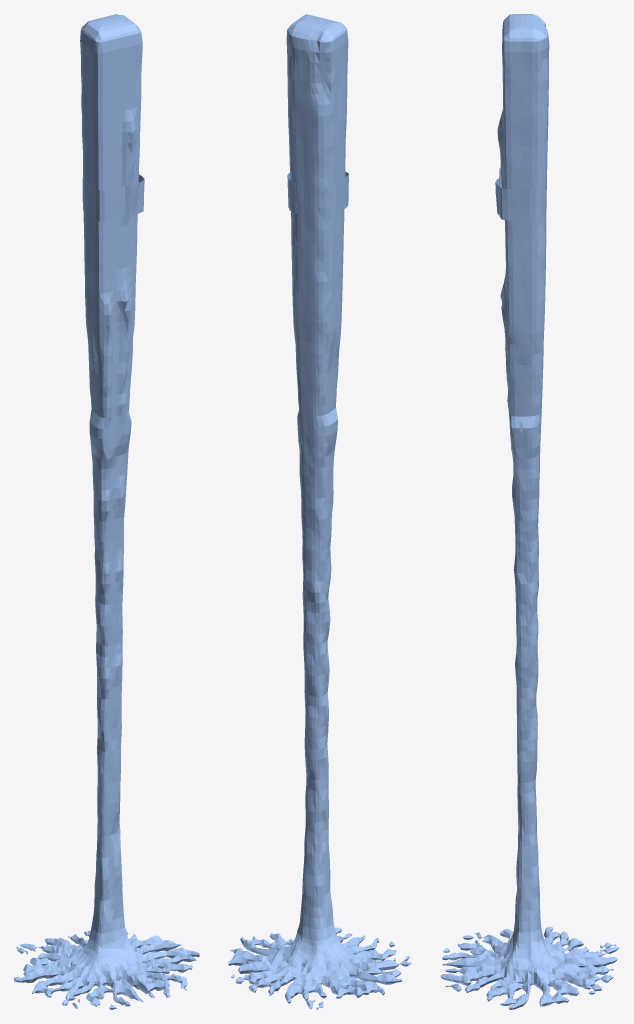
The model's file is water_1.fbx.
The picture shows the model from 3 angles, left to right: view 1: azimuth 30°, elevation 25°; view 2: azimuth 150°, elevation 25°; view 3: azimuth 270°, elevation 25°; orthographic projection.
Visible parts, largest first — view 1: Cube.001, Cube.002; view 2: Cube.001, Cube.002; view 3: Cube.001, Cube.002.
Boxes of the visible parts, left/top/right/bottom form: Cube.001: left=14, top=14, right=199, bottom=1009; Cube.002: left=82, top=174, right=144, bottom=221; Cube.001: left=228, top=14, right=411, bottom=1009; Cube.002: left=287, top=171, right=348, bottom=223; Cube.001: left=440, top=14, right=619, bottom=1009; Cube.002: left=495, top=168, right=546, bottom=223.
Bounding box in the file's own units: 13.13 × 72.85 × 12.36.
